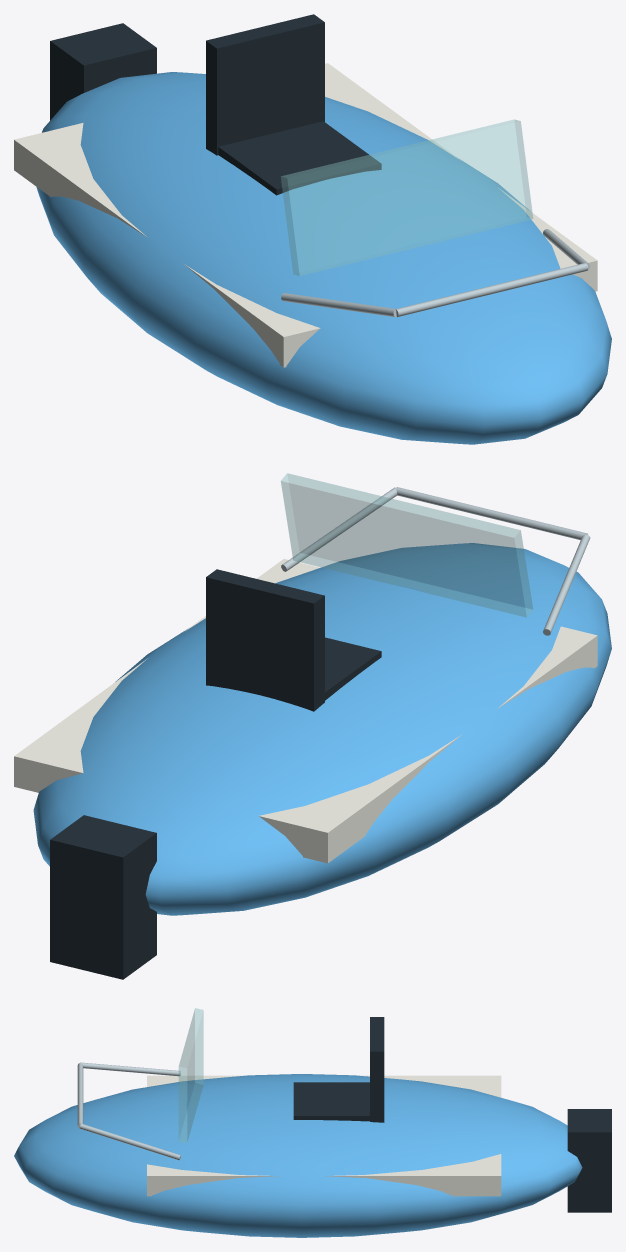
File: boat.glb
The picture shows the model from 3 angles, top to bottom: view 1: azimuth 30°, elevation 25°; view 2: azimuth 150°, elevation 25°; view 3: azimuth 270°, elevation 25°; orthographic projection. The views are drawn at different scales.
Parts seen in each view (by area): view 1: boat; view 2: boat; view 3: boat.
Boxes of the visible parts, x1,y1,x2,y2 form: boat: (14, 14, 611, 444); boat: (14, 473, 611, 979); boat: (14, 1008, 611, 1237).
Size of the model in its own units: 2.6 by 1.76 by 5.4.
